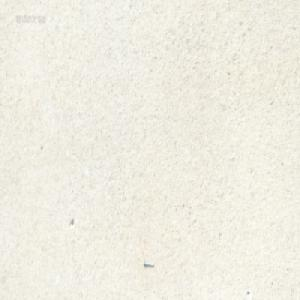Nail: (143, 260, 154, 268)
